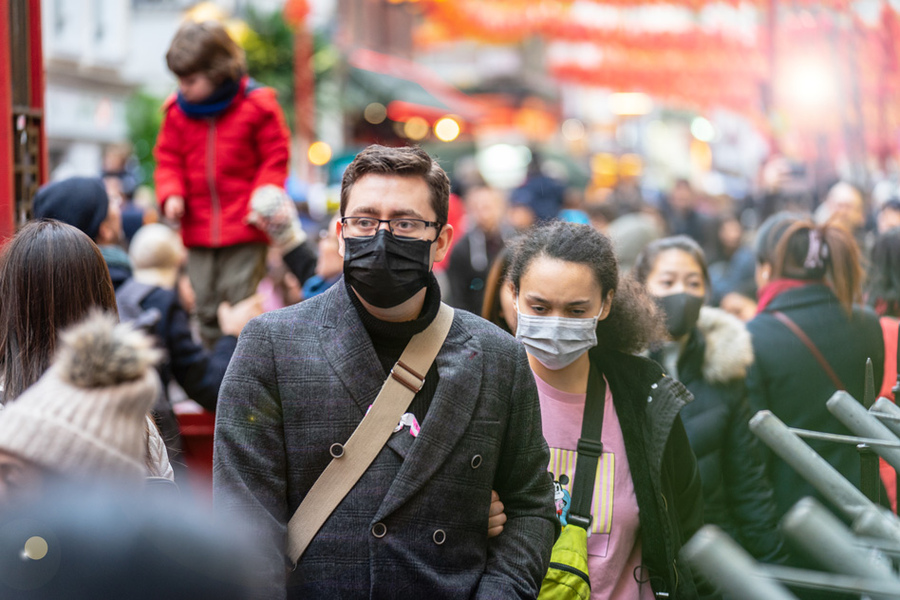with_mask: (348, 183, 429, 305), (515, 270, 593, 361), (648, 250, 707, 336)
